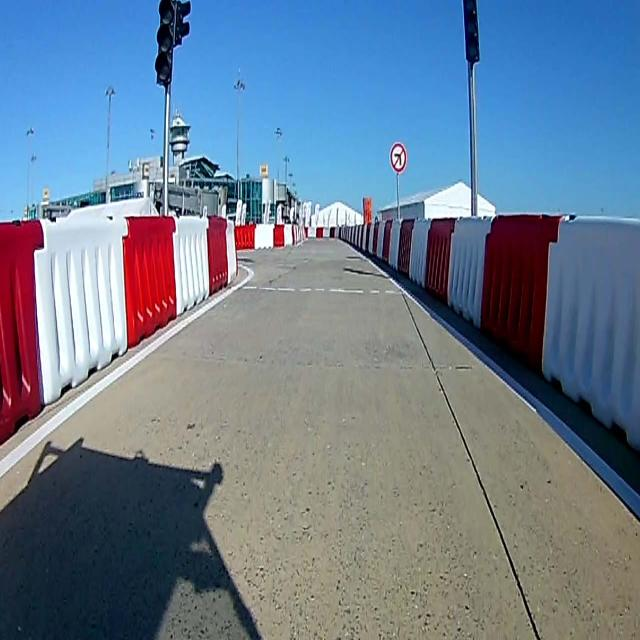soladonulmez: (390, 142, 408, 172)
